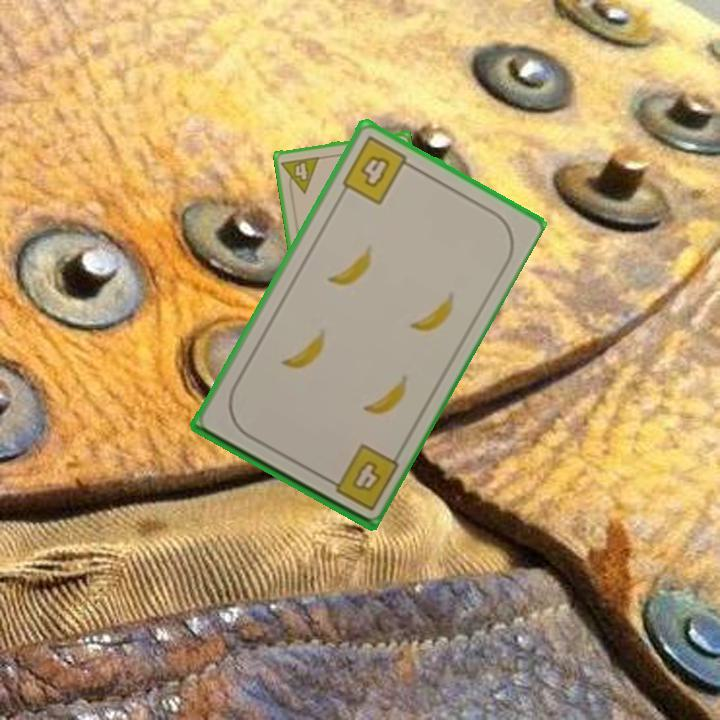4b: (338, 132, 418, 208), (320, 439, 401, 514)
4p: (278, 153, 322, 198)
